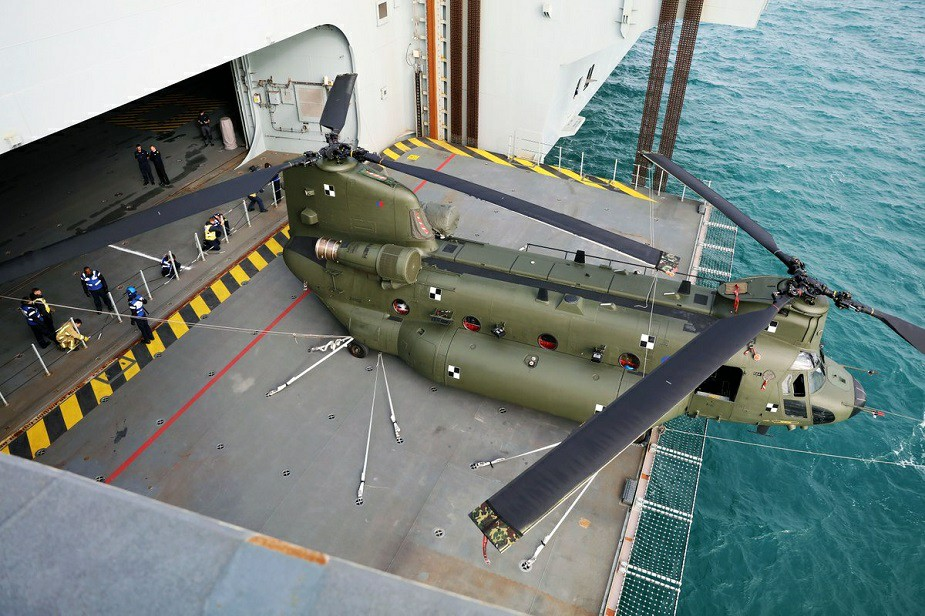chinook: (257, 62, 887, 472)
